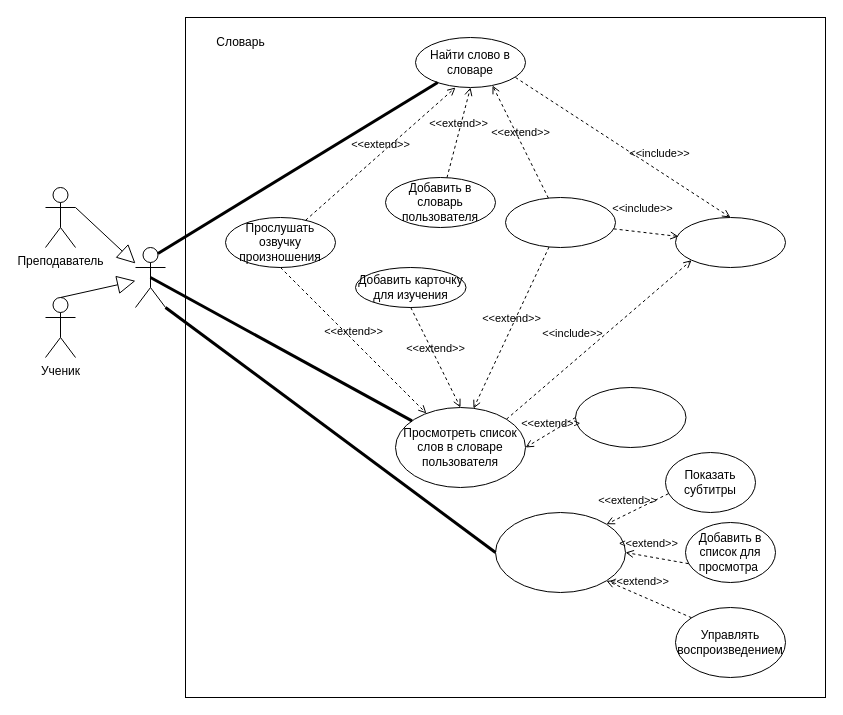
Image size: 843x715. Some labels were removed from this diagram. Each missing label, with the centre of its shape:
Пользователь: point 150,277
Посмотреть перевод: point 730,242
Просмотреть видео с новым словом: point 560,552
Просмотреть подробную информацию: point 560,222
Удалить слово: point 630,417
